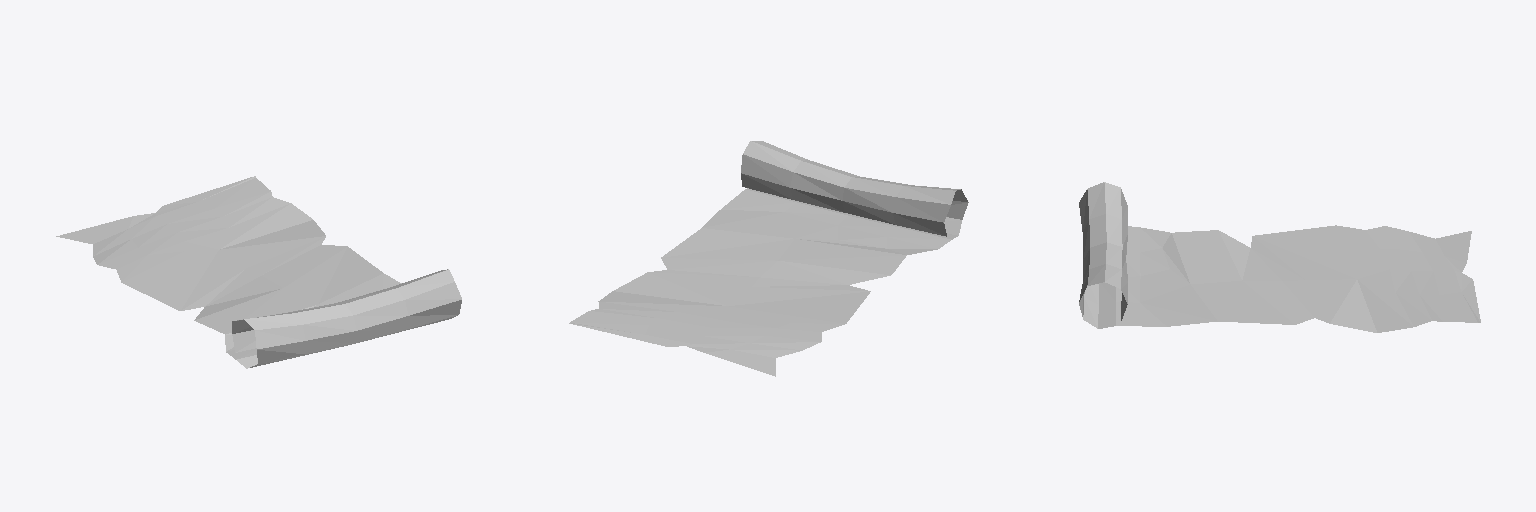
File: Map.obj
The picture shows the model from 3 angles: view 1: azimuth 30°, elevation 25°; view 2: azimuth 150°, elevation 25°; view 3: azimuth 270°, elevation 25°; orthographic projection.
Visible parts, largest first — view 1: Grid; view 2: Grid; view 3: Grid.
Boxes of the visible parts, x1,y1,x2,y2 form: Grid: [56, 176, 461, 368]; Grid: [569, 141, 968, 376]; Grid: [1079, 182, 1480, 332].
Bounding box in the file's own units: 1.44 × 0.3288 × 2.36.